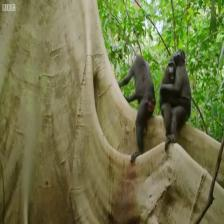monkey: (172, 46, 187, 68), (131, 54, 149, 72), (166, 57, 177, 84)
